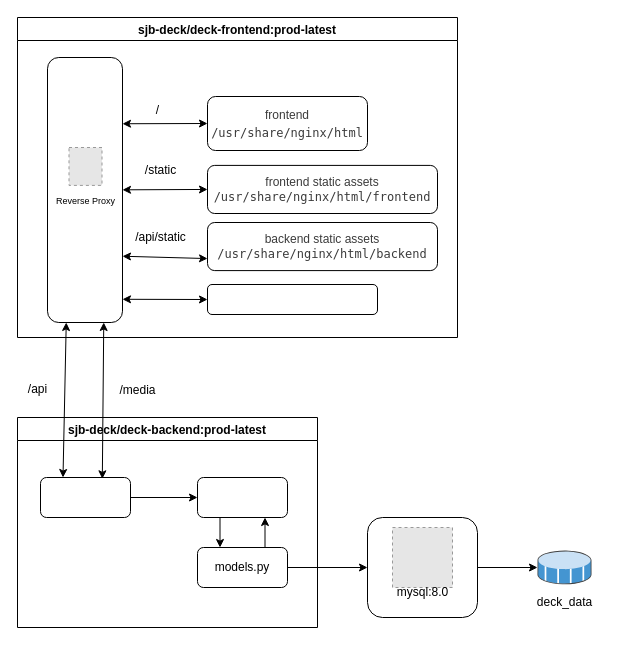
The diagram is 622 pixels wide and 645 high, and some of its shapes have lost their labels. Grey dashed boxes stand in for pictures. Here are the shapes that lost their labels. From the top down, the centre of each, then its label:
At point (292, 299): "/var/cache/nginx/cache".
At point (85, 497): "urls.py".
At point (242, 497): "views .py".
